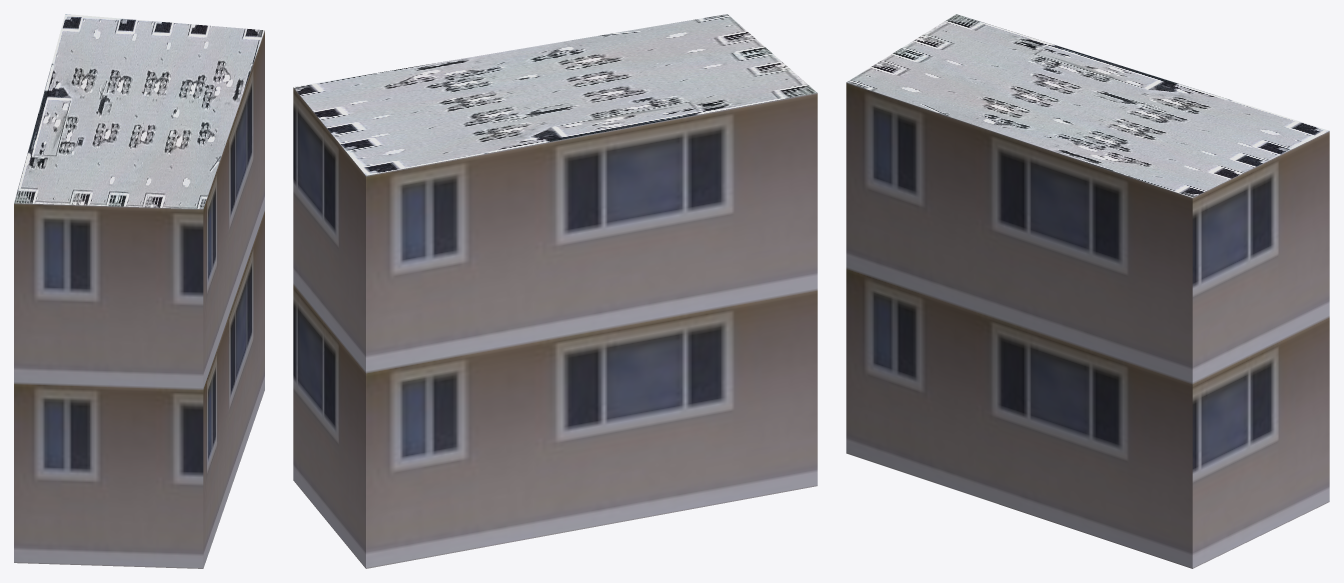
File: ResTex__1030.fbx
3 views of the same model, side by side, from view 1: azimuth 30°, elevation 25°; view 2: azimuth 150°, elevation 25°; view 3: azimuth 270°, elevation 25° (orthographic). The views are drawn at different scales.
Visible parts, largest first — view 1: CityEngineMaterial_21_m, CityEngineMaterial_m; view 2: CityEngineMaterial_21_m, CityEngineMaterial_m; view 3: CityEngineMaterial_21_m, CityEngineMaterial_m.
Part boxes in pixels (bbox=[...]): CityEngineMaterial_21_m: bbox=[14, 31, 264, 568]; CityEngineMaterial_m: bbox=[14, 14, 264, 208]; CityEngineMaterial_21_m: bbox=[293, 87, 817, 568]; CityEngineMaterial_m: bbox=[293, 14, 817, 175]; CityEngineMaterial_21_m: bbox=[846, 82, 1329, 568]; CityEngineMaterial_m: bbox=[846, 14, 1329, 197].
Bounding box in the file's own units: 6.38 × 6 × 7.09.
Materials: 2 (2 with a texture image).
